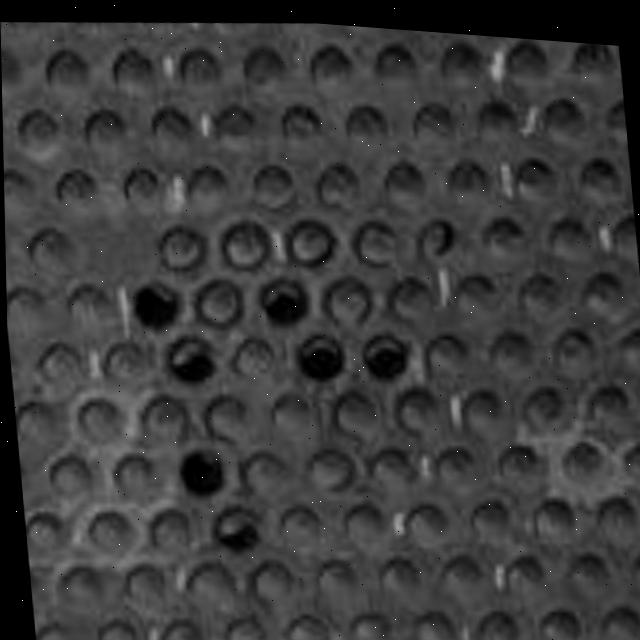Hole: (249, 263, 310, 327), (159, 323, 219, 385), (355, 320, 413, 378), (126, 274, 183, 331), (289, 322, 345, 379), (172, 437, 225, 497)
